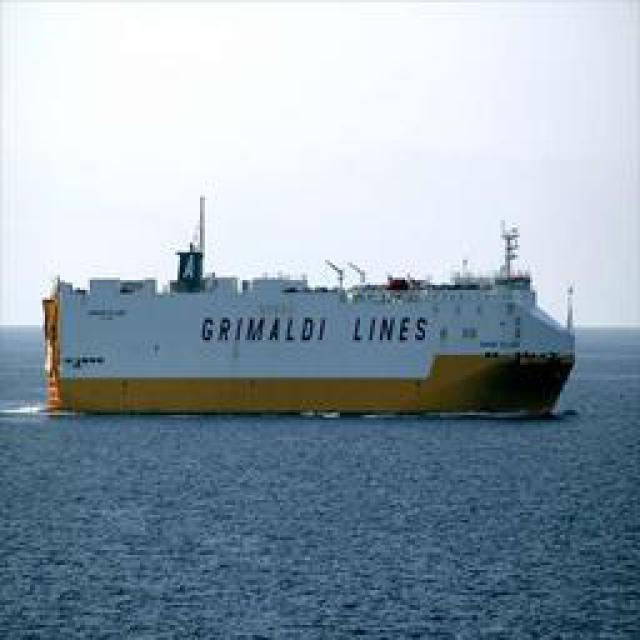Ship: (42, 195, 575, 413)
